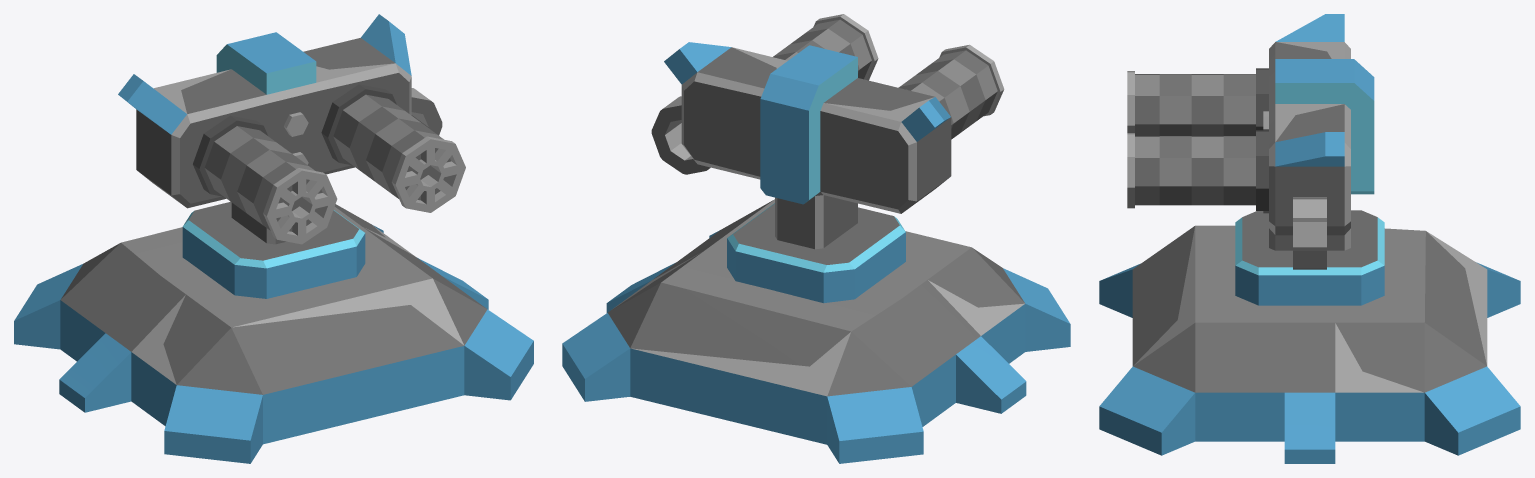
Rendered from tower_gatling_blue_2.fbx.
3 views of the same model, side by side, from view 1: azimuth 30°, elevation 25°; view 2: azimuth 150°, elevation 25°; view 3: azimuth 270°, elevation 25° (orthographic). The views are drawn at different scales.
Visible parts, largest first — view 1: tower_gatling_blue_2, top_gatling_blue_2; view 2: tower_gatling_blue_2, top_gatling_blue_2; view 3: tower_gatling_blue_2, top_gatling_blue_2.
Part boxes in pixels (x1,y1,x2,y2): tower_gatling_blue_2: [14, 204, 533, 463]; top_gatling_blue_2: [118, 14, 465, 298]; tower_gatling_blue_2: [562, 199, 1070, 463]; top_gatling_blue_2: [651, 14, 1004, 303]; tower_gatling_blue_2: [1099, 225, 1520, 463]; top_gatling_blue_2: [1127, 14, 1384, 305].
Bounding box in the file's own units: 173 × 122 × 158.
